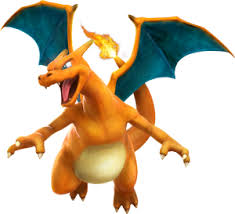charizard: (3, 1, 234, 214)
